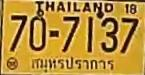0: (28, 15, 46, 50)
1: (87, 16, 92, 52)
3: (100, 16, 117, 52)
7: (120, 17, 138, 52), (9, 14, 26, 51), (62, 16, 78, 52)
SPK: (30, 55, 116, 71)
